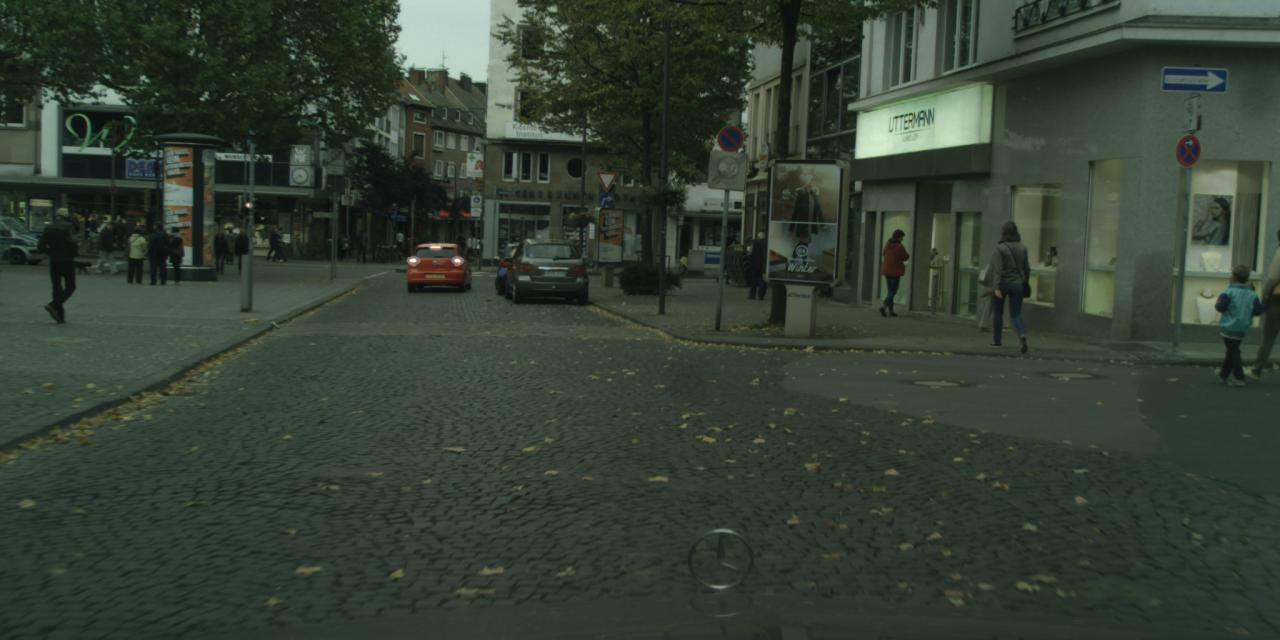ped: (983, 220, 1035, 348), (1209, 263, 1257, 380), (36, 208, 82, 318), (984, 232, 1025, 332), (875, 229, 909, 314), (745, 232, 772, 298), (145, 221, 171, 284), (124, 225, 147, 282), (164, 226, 186, 283), (98, 220, 120, 274), (717, 234, 737, 283), (234, 228, 252, 274), (211, 229, 229, 273), (66, 214, 82, 256), (86, 213, 101, 253), (112, 215, 127, 250), (266, 226, 281, 261), (222, 227, 236, 263), (273, 226, 287, 261), (354, 228, 368, 262), (464, 233, 476, 261), (454, 234, 466, 262), (394, 230, 404, 252), (336, 237, 344, 259)
